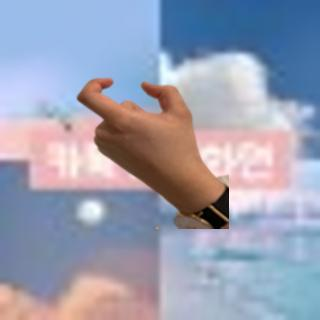HATE: (71, 72, 203, 196)
